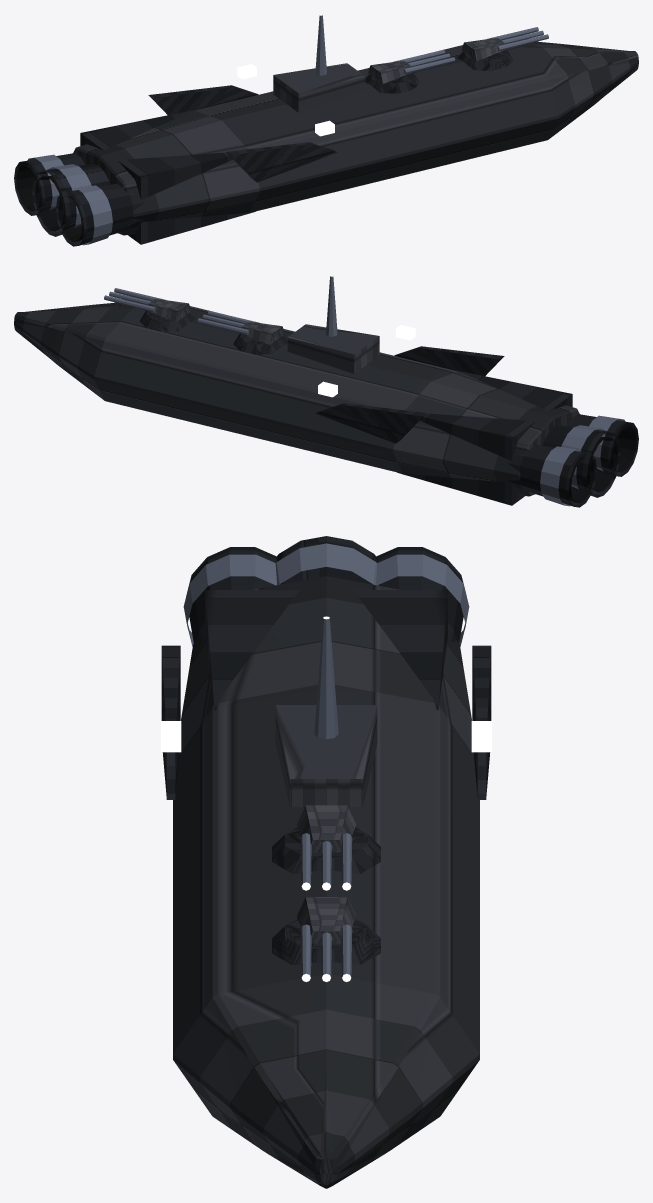
Rendered from heavy_cruiser.glb.
3 renders of one model, top to bottom at view 1: azimuth 30°, elevation 25°; view 2: azimuth 150°, elevation 25°; view 3: azimuth 270°, elevation 25°, orthographic. The views are drawn at different scales.
Parts seen in each view (by area): view 1: hull_body, engine_block, shield_pylons, weapon_turrets, sensor_tower; view 2: hull_body, engine_block, shield_pylons, weapon_turrets, sensor_tower; view 3: hull_body, engine_block, weapon_turrets, sensor_tower, shield_pylons.
Boxes of the visible parts, x1,y1,x2,y2 form: hull_body: (73, 41, 638, 235); engine_block: (14, 109, 255, 246); shield_pylons: (148, 64, 337, 182); weapon_turrets: (365, 27, 548, 93); sensor_tower: (273, 14, 365, 112); hull_body: (14, 302, 579, 496); engine_block: (397, 370, 638, 507); shield_pylons: (315, 325, 504, 443); weapon_turrets: (104, 288, 287, 354); sensor_tower: (287, 275, 379, 373); hull_body: (173, 576, 479, 1188); engine_block: (183, 536, 469, 710); weapon_turrets: (272, 805, 380, 981); sensor_tower: (275, 616, 377, 806); shield_pylons: (161, 645, 491, 799).
Size of the model in its own units: 50 by 13.33 by 12.19.
Materials: 1 (1 with a texture image).
